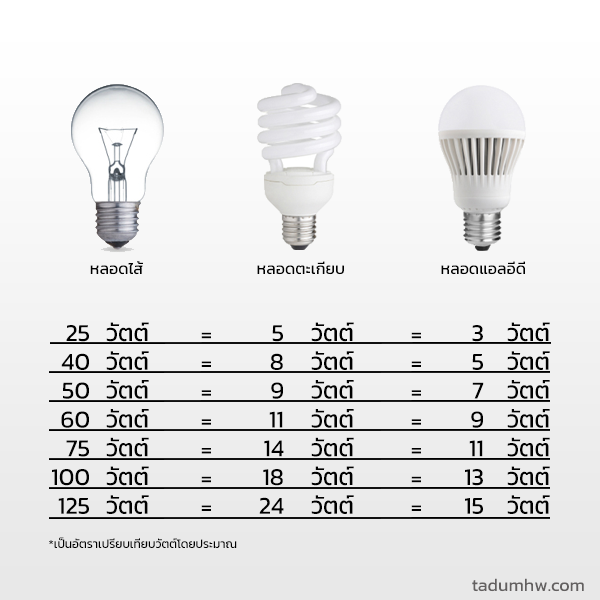Light_bulb: (63, 69, 170, 261), (431, 69, 532, 260), (250, 71, 348, 264)
